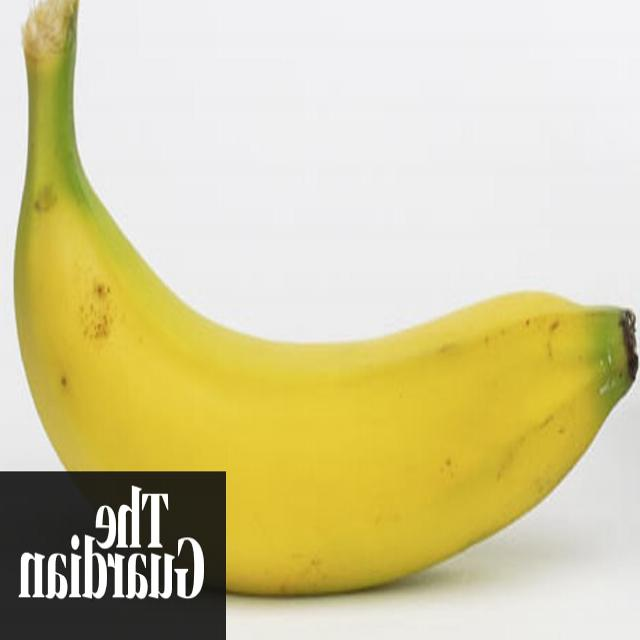Banana: (15, 16, 634, 597)
